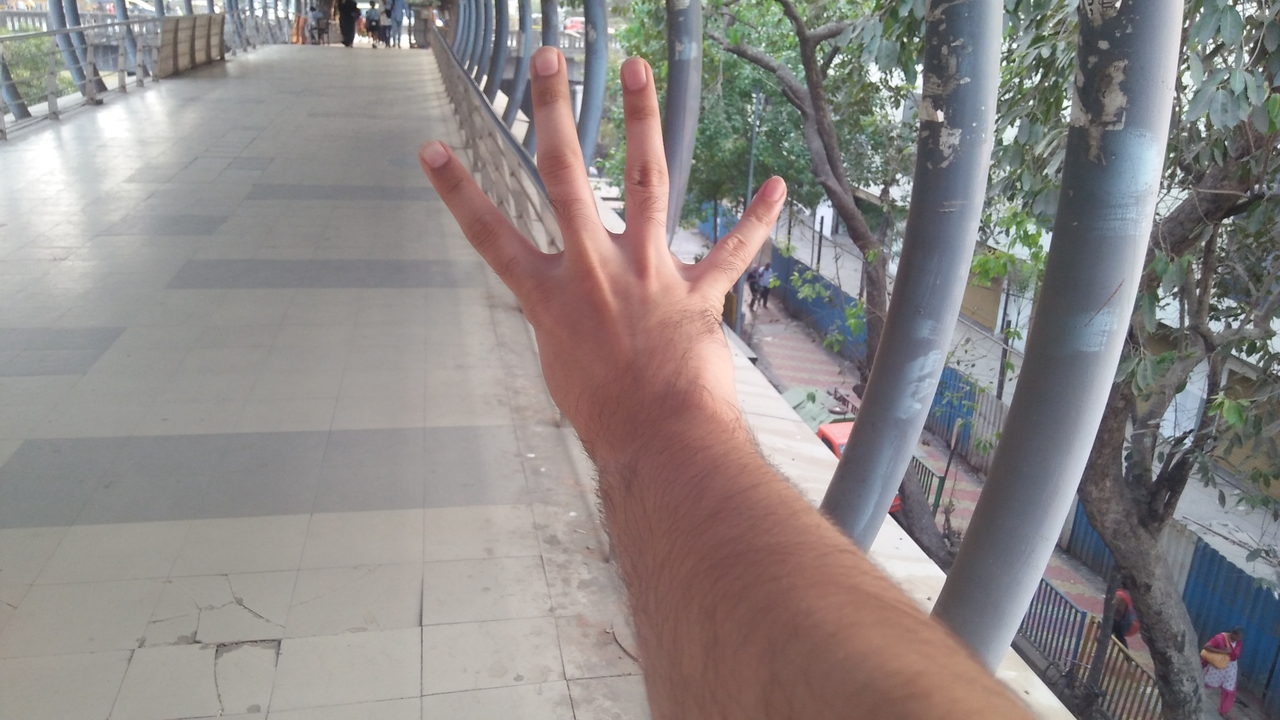fingertip: (404, 124, 458, 176), (610, 46, 664, 94), (746, 166, 800, 214), (522, 38, 568, 84)
